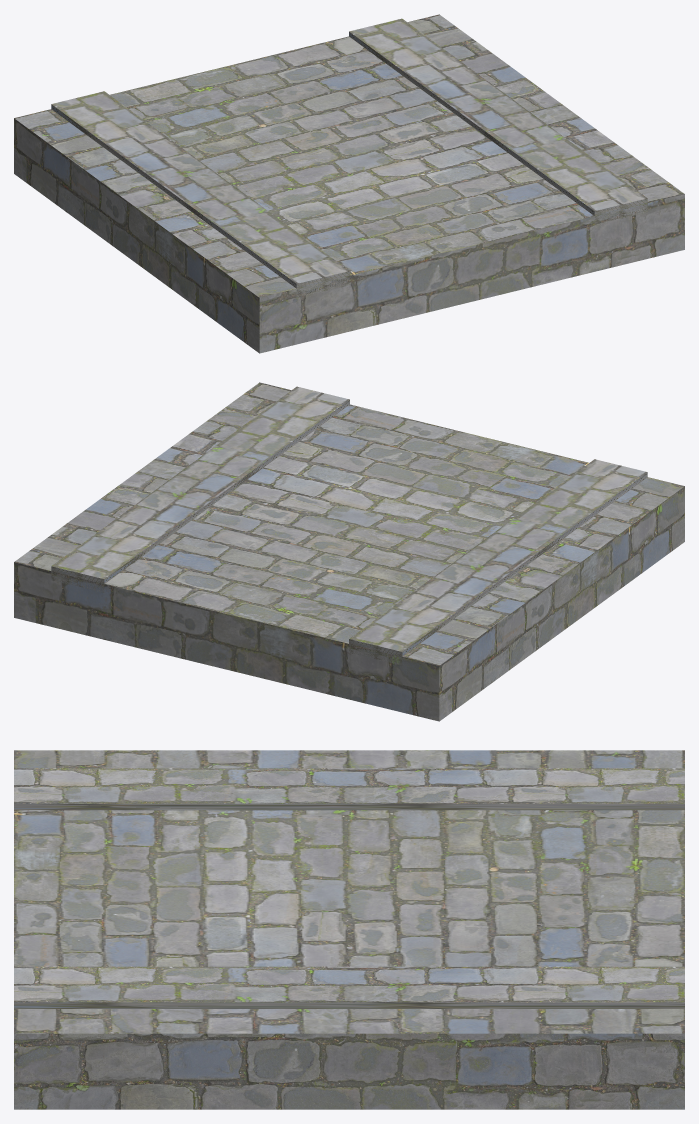
Rendered from GND_Flat_02x02_city_cobble_straight_A.glb.
3 views of the same model, one above another, from view 1: azimuth 30°, elevation 25°; view 2: azimuth 150°, elevation 25°; view 3: azimuth 270°, elevation 25° (orthographic). The views are drawn at different scales.
Visible parts, largest first — view 1: ground.001, rails.001, rails; view 2: ground.001, rails, rails.001; view 3: ground.001, rails, rails.001.
Boxes of the visible parts, x1,y1,x2,y2 form: ground.001: (14, 14, 684, 353); rails.001: (349, 18, 647, 224); rails: (51, 91, 349, 297); ground.001: (14, 382, 684, 721); rails: (349, 459, 647, 665); rails.001: (51, 386, 349, 592); ground.001: (14, 750, 684, 1109); rails: (14, 768, 684, 810); rails.001: (14, 966, 684, 1008).
Size of the model in its own units: 2 by 0.2723 by 2.
Materials: 2 (2 with a texture image).
